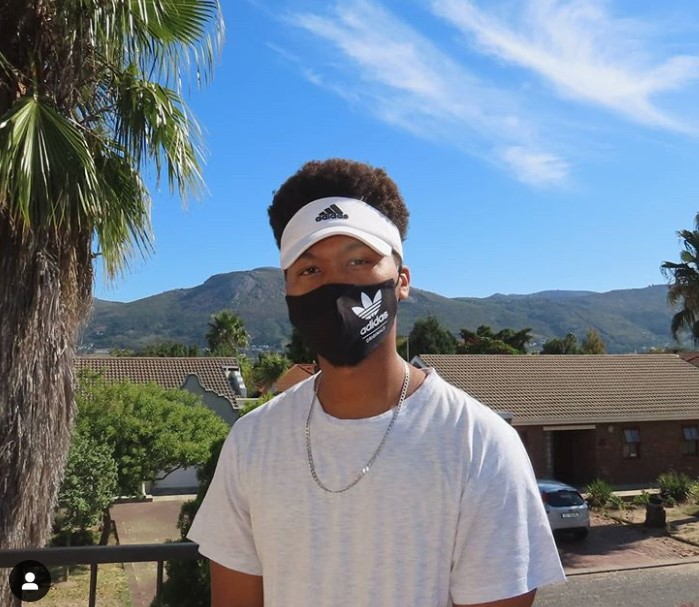face_with_mask: (267, 158, 412, 372)
